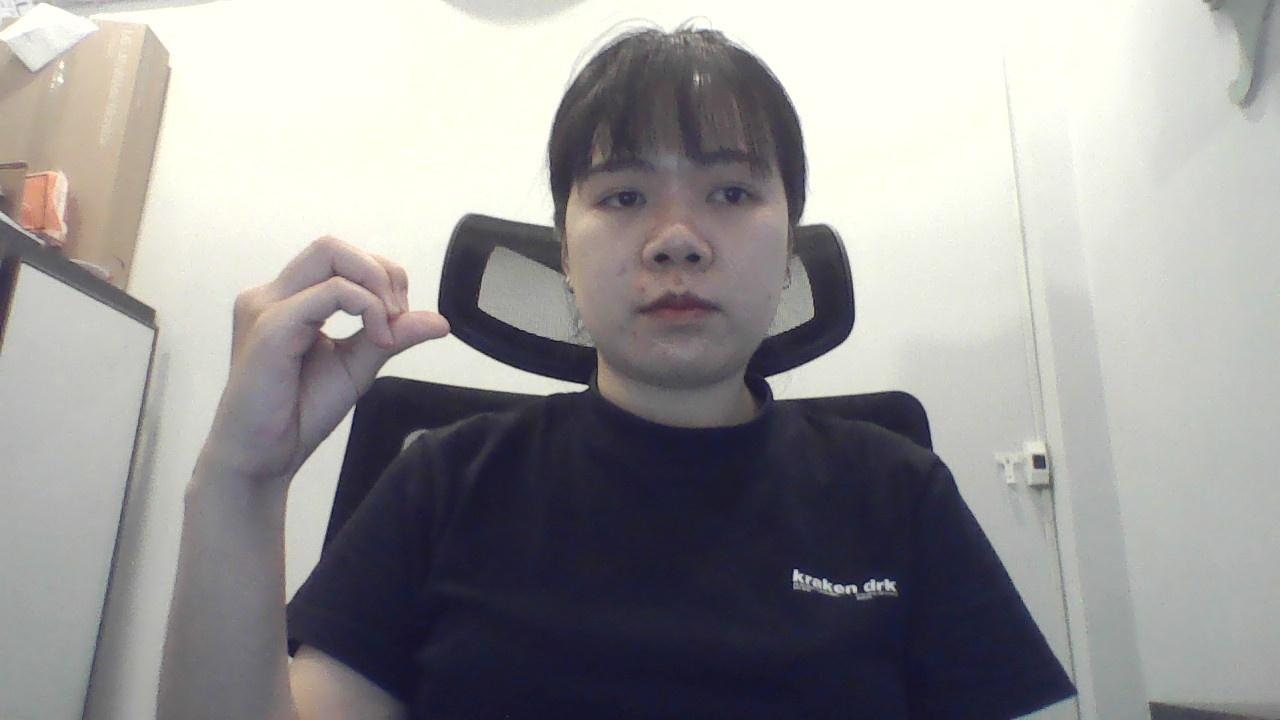S: (202, 207, 452, 482)
